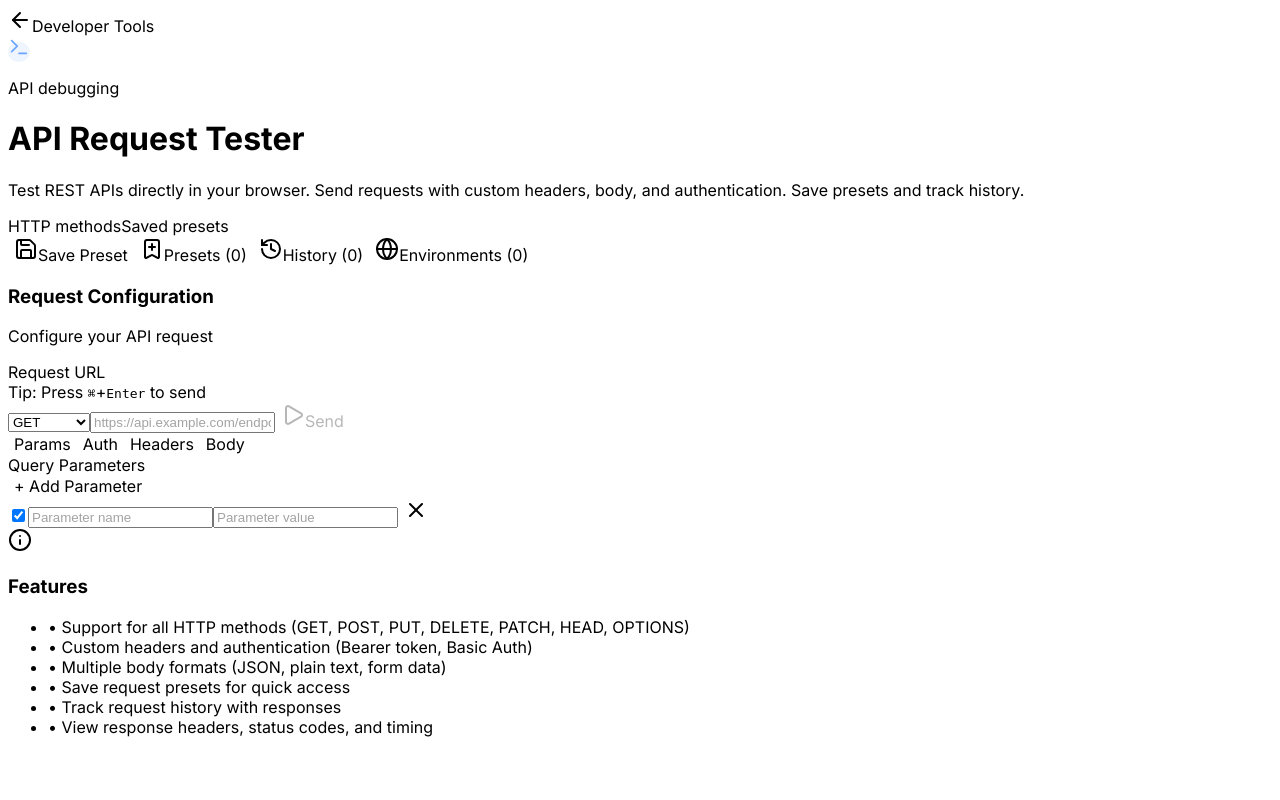
Test: API Tester Page - Component Tests › should display authentication selector
Note: Click on Auth tab to access authentication section
Click the button "Auth" at (100, 444), box [77,433,124,455]
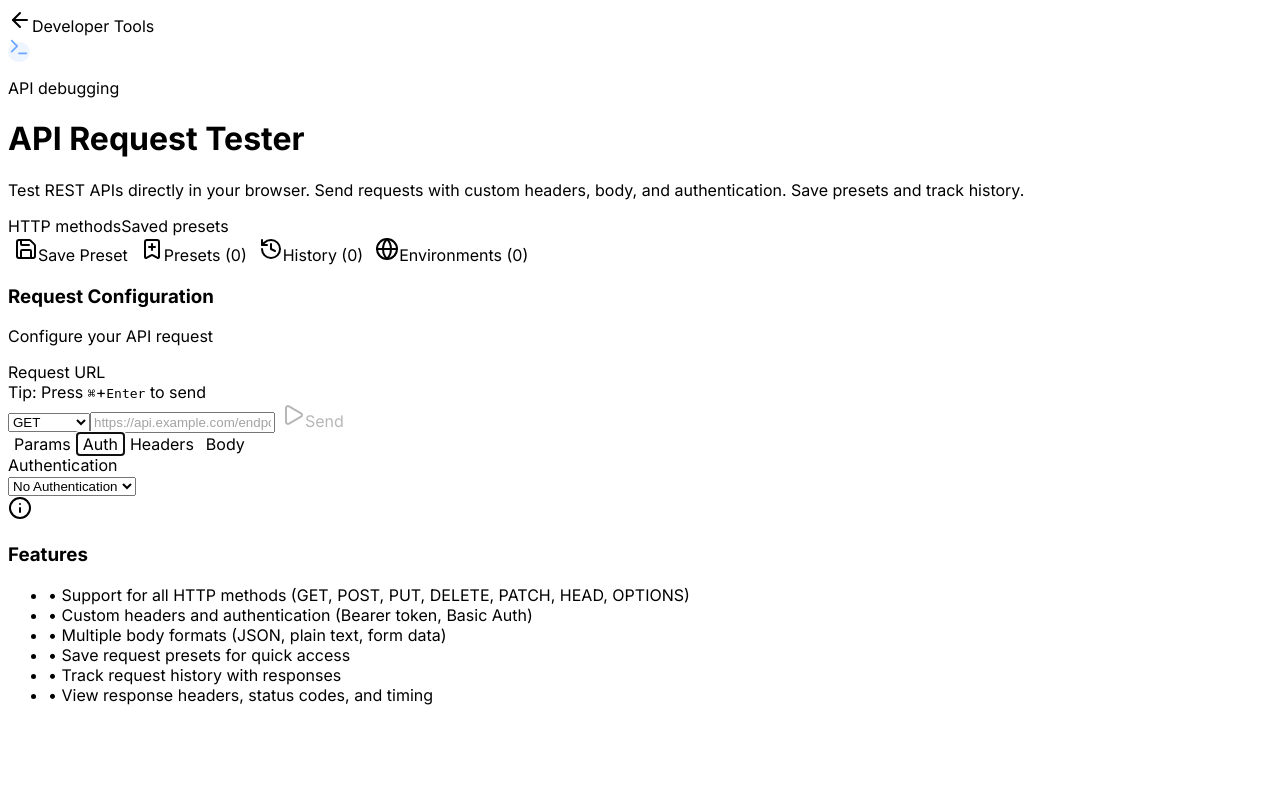
Expected: the text "Authentication" is shown, [8,455,118,475]
Expected: the 2nd dropdown showing "No Authentication" is shown, [8,477,136,496]
